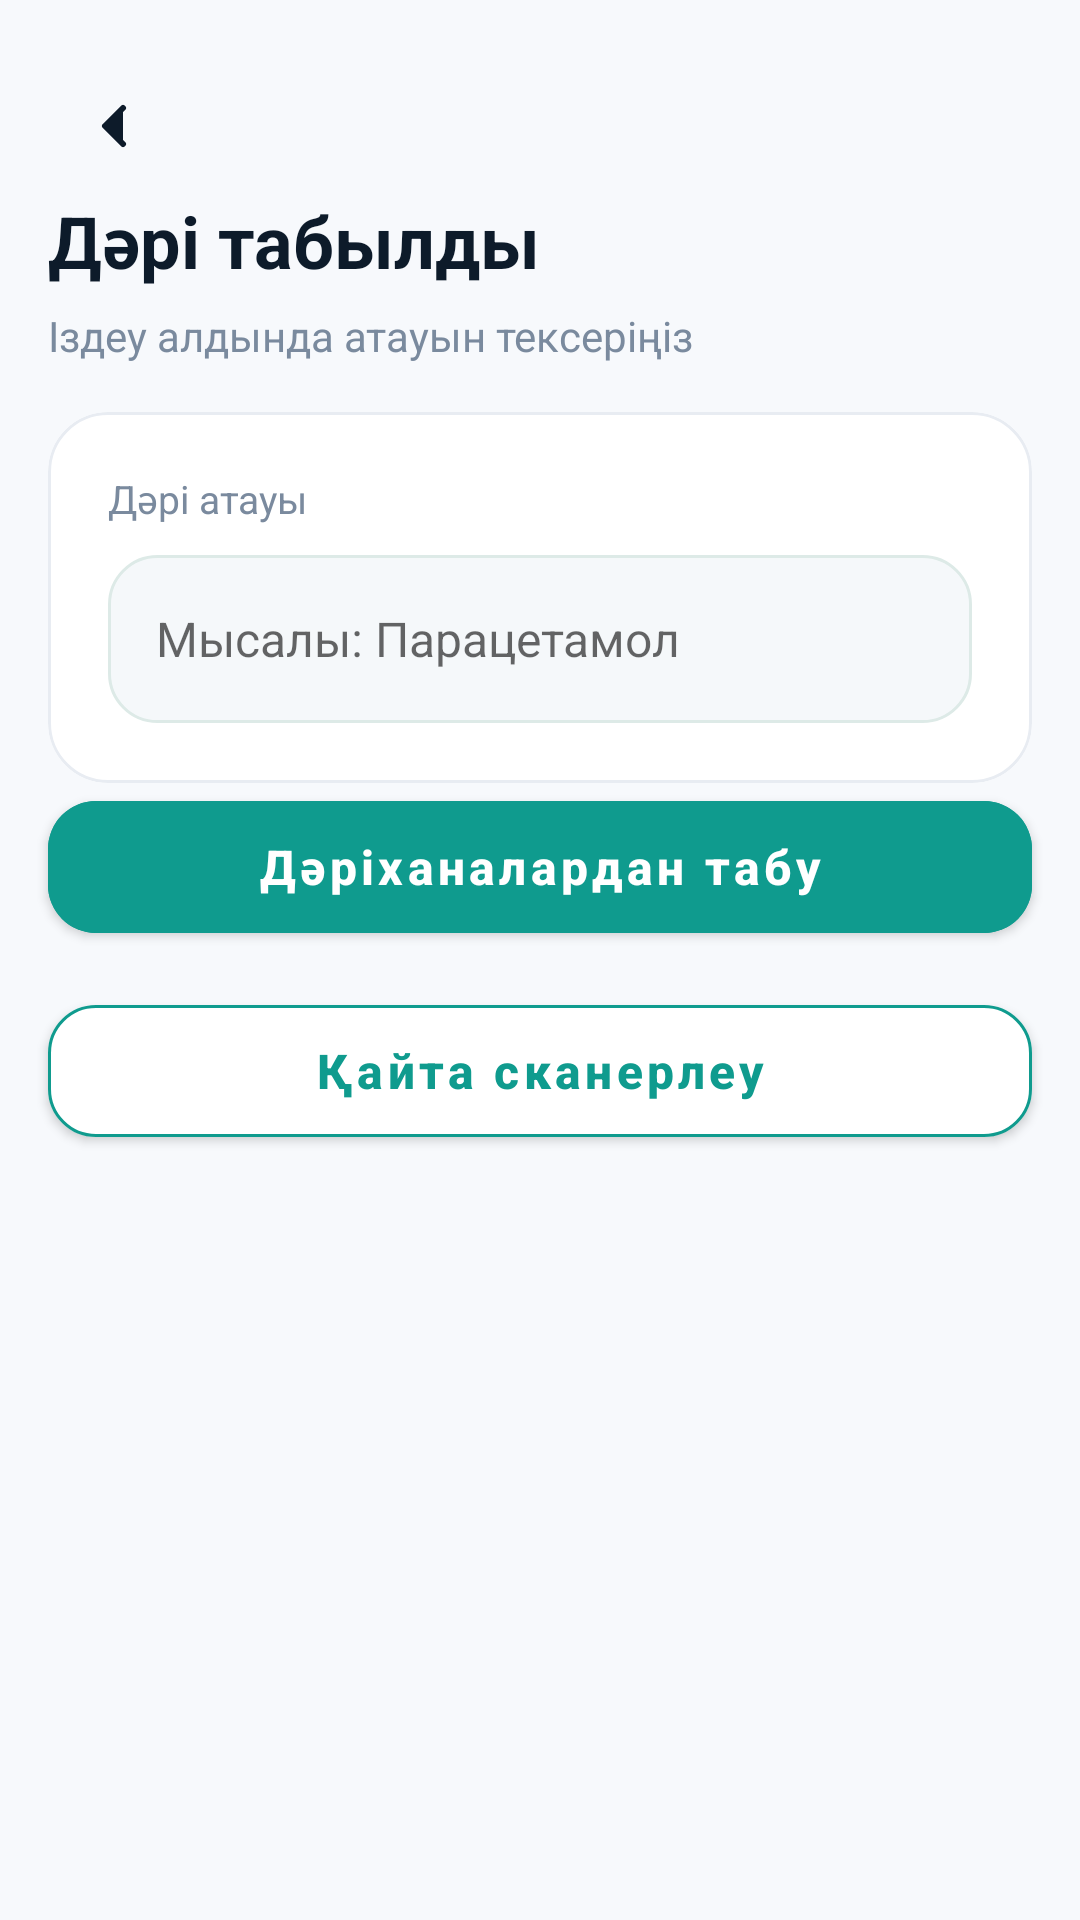

Point at icon controls on the screen. Image size 1080px×1920px, points as (x,y).
back: (114,126)
